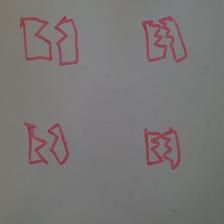intron: (21, 17, 79, 65), (143, 17, 188, 62), (24, 122, 69, 165), (144, 128, 181, 170)
